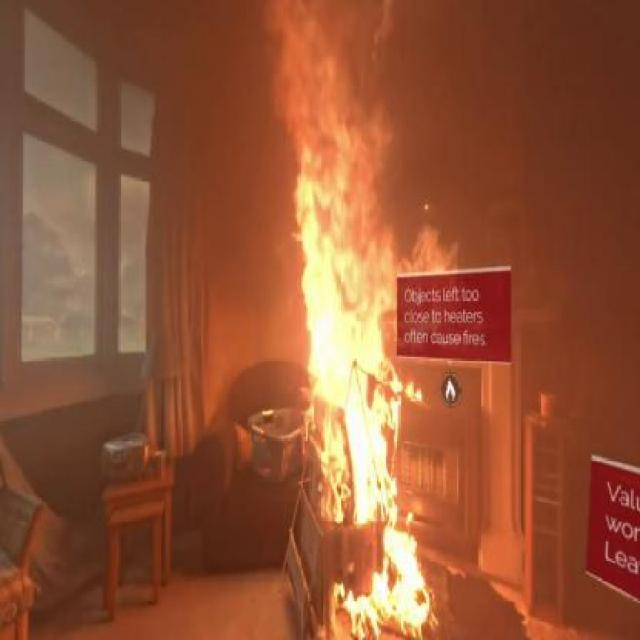fire: (320, 186, 400, 577)
smoke: (14, 14, 278, 331), (402, 1, 600, 248)
